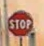stop: (6, 9, 33, 36)
